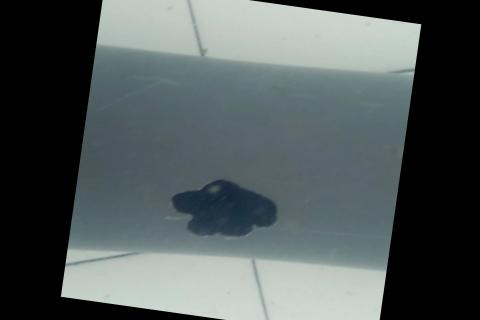kebocoran: (164, 169, 280, 247)
